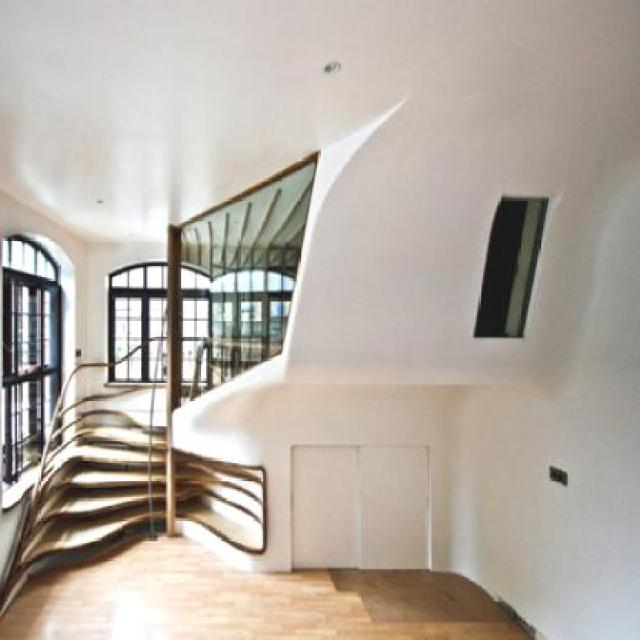stair: (2, 329, 246, 603)
